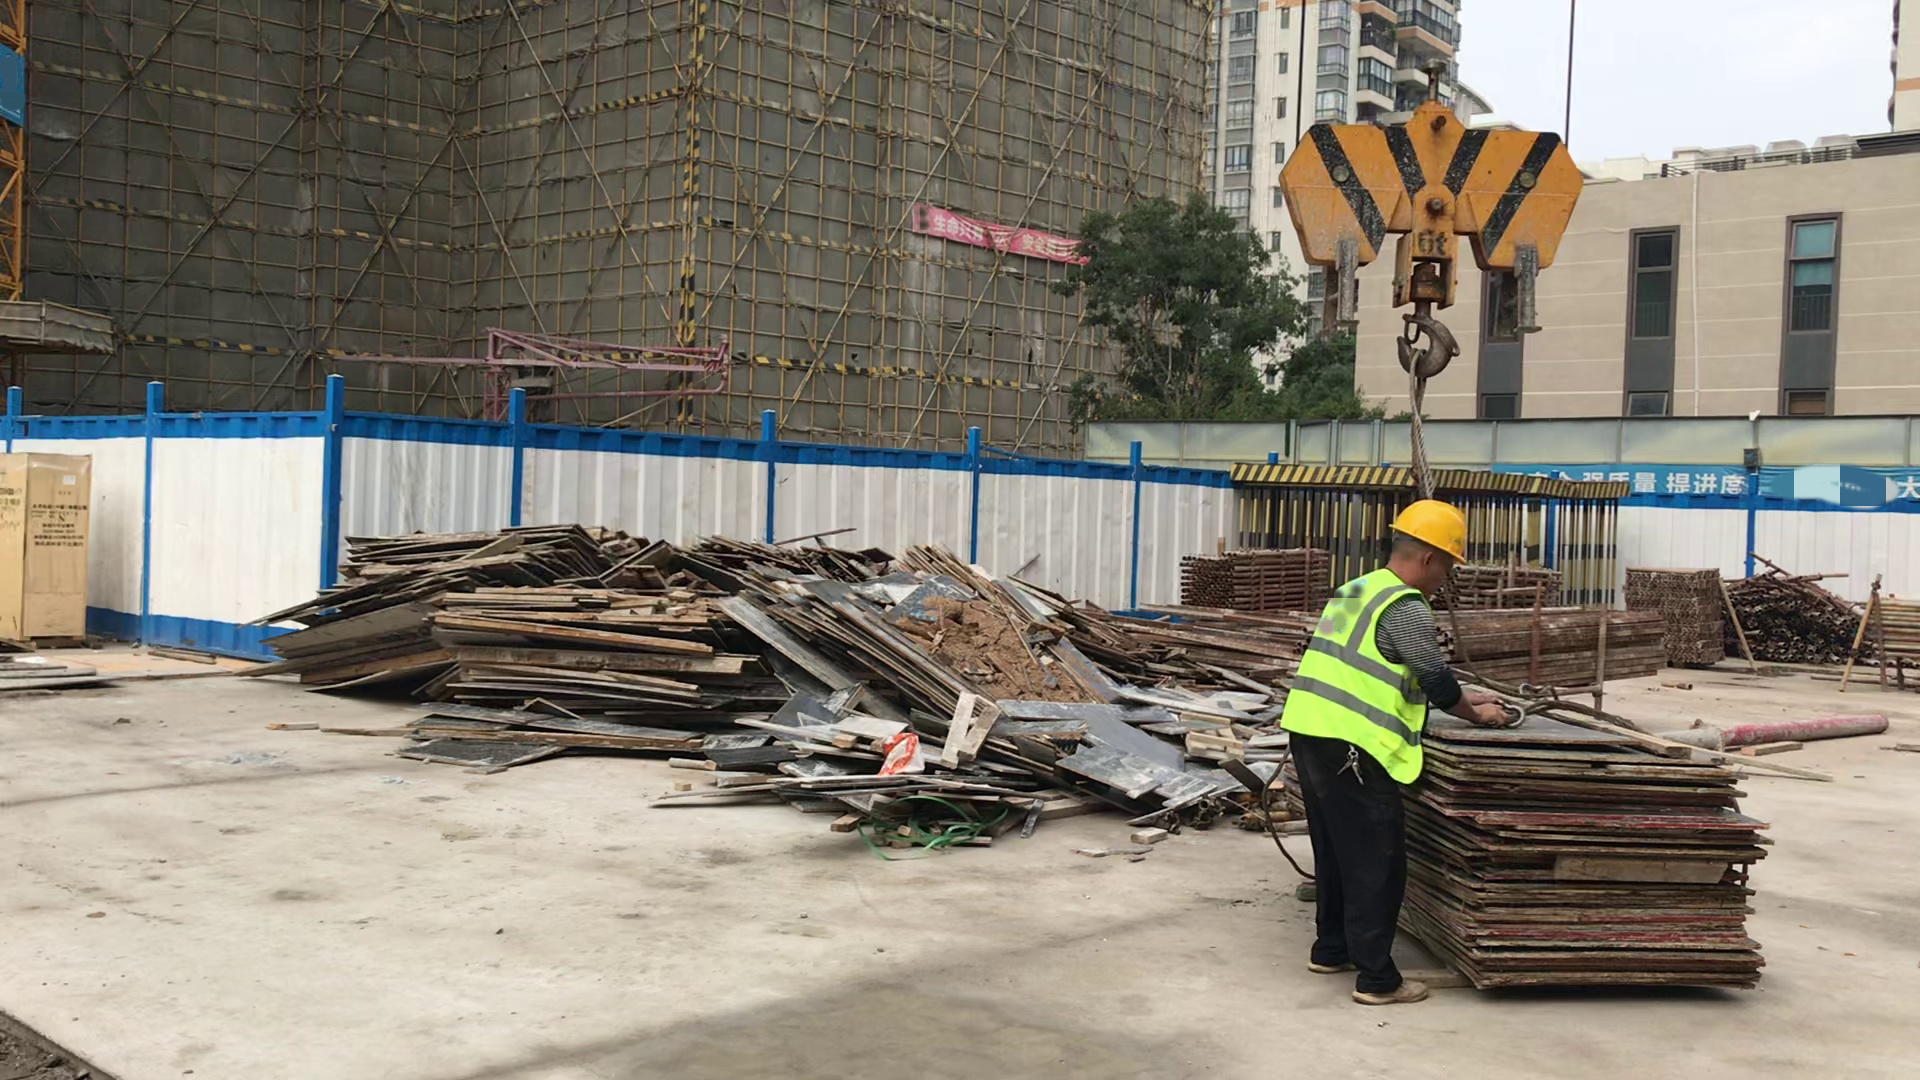board: (1433, 705, 1767, 1005)
helmet: (1385, 498, 1469, 571)
hook: (1265, 101, 1580, 393)
person: (1286, 495, 1501, 1008)
scaffold: (1183, 549, 1325, 611), (1632, 572, 1714, 656), (1474, 564, 1558, 602), (1876, 602, 1920, 655)
slogan: (910, 199, 1083, 275), (1490, 470, 1920, 495)
vest: (1285, 566, 1428, 782)
